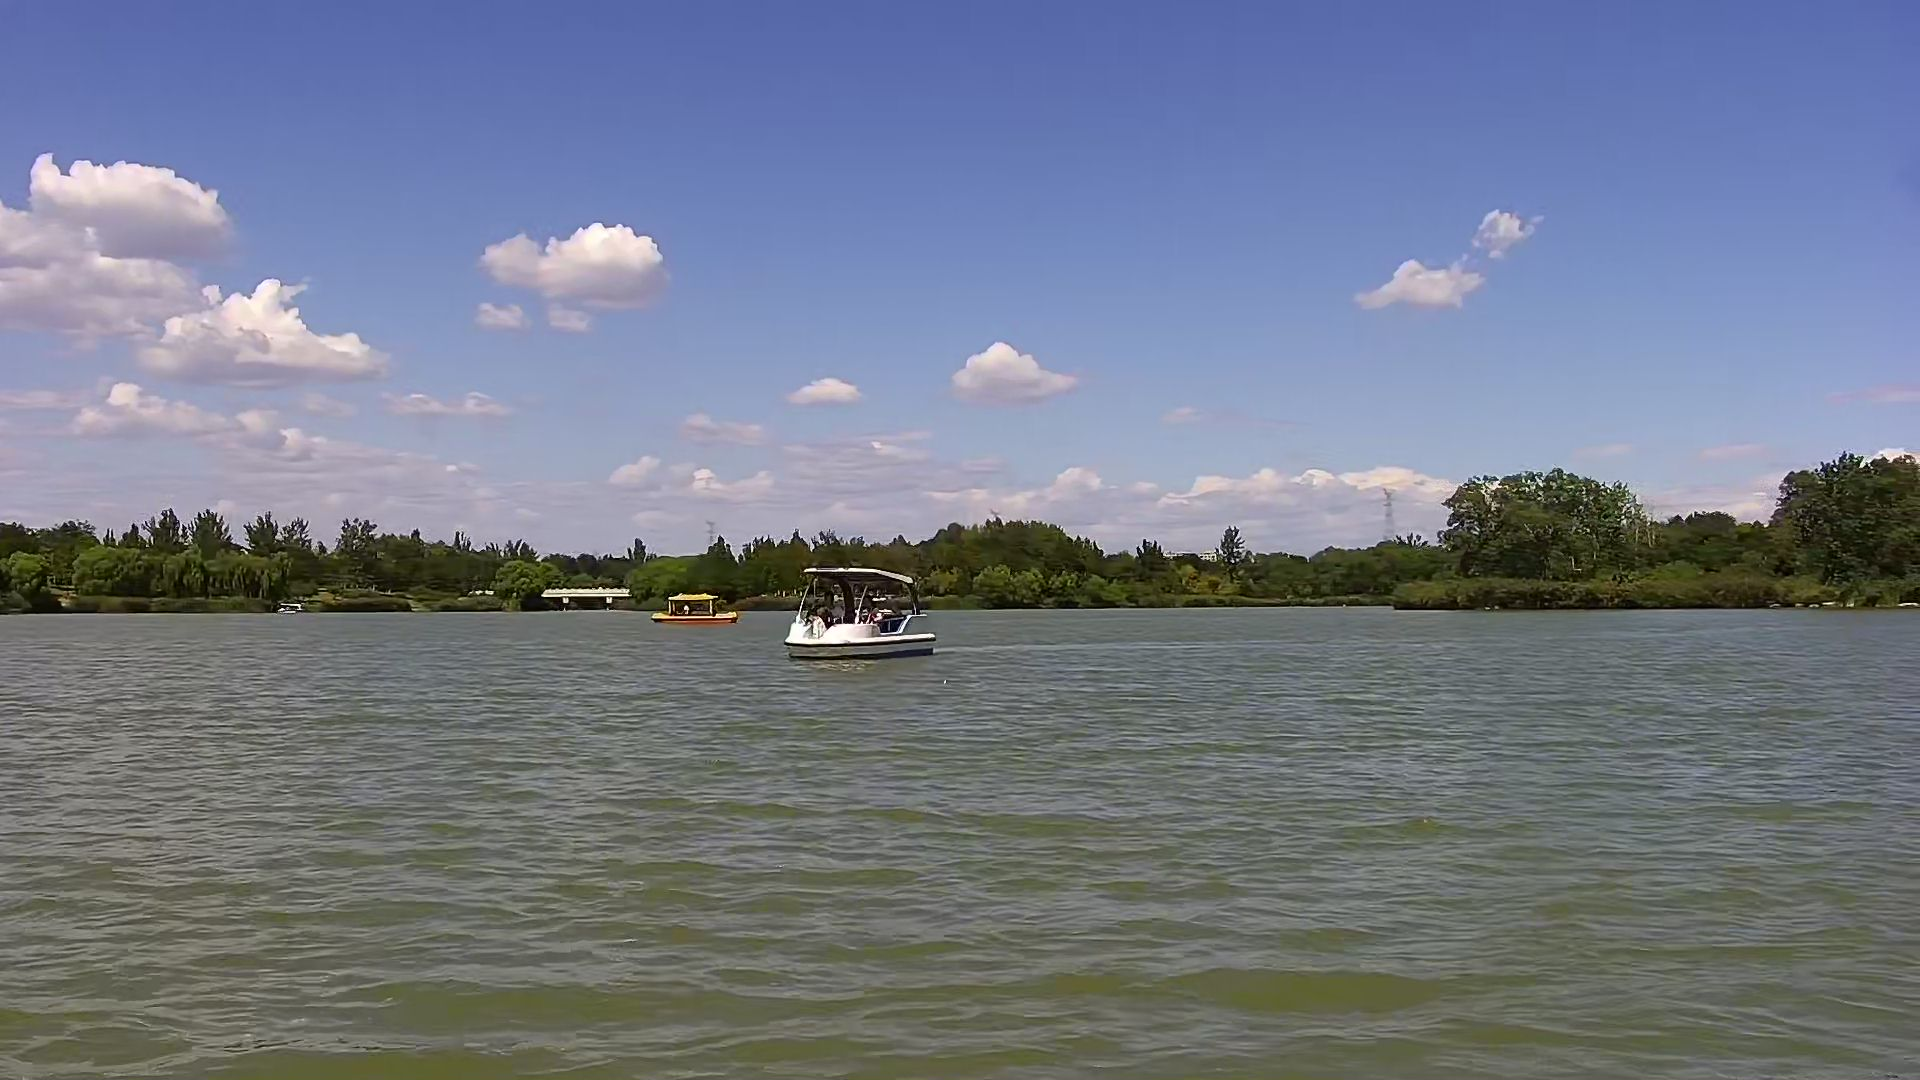boat: (786, 564, 934, 667), (651, 593, 737, 624)
bridge: (545, 585, 628, 615)
